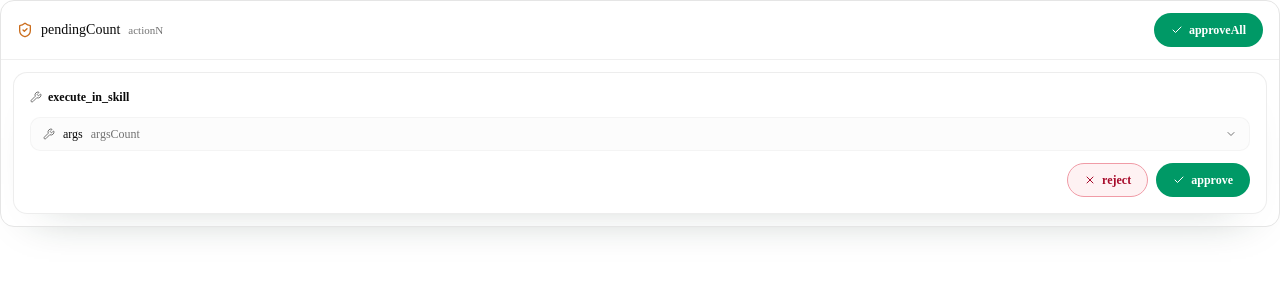
ApprovalCard › retries the full coordinator batch after the final grouped approval resume fails
Click the button with test id "approval-approve-all-button" at (1208, 30), box [1154, 13, 1263, 47]
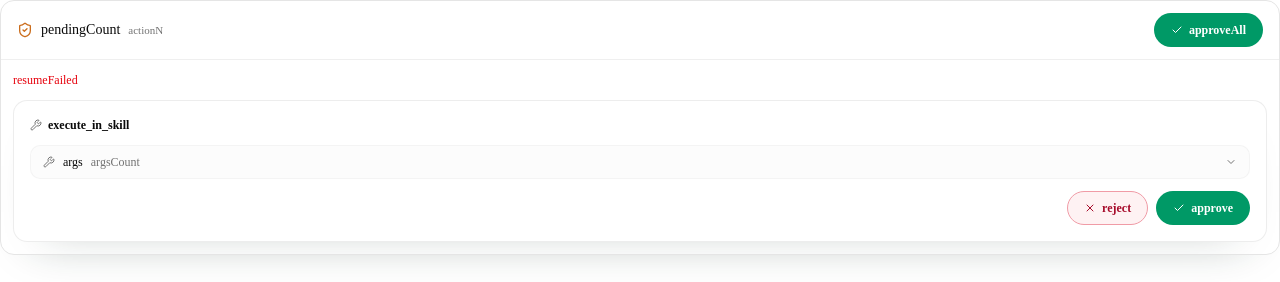
Expected: the text "pendingCount" is shown, [41, 20, 120, 40]
Now the message reads "resumeFailed", box [13, 73, 78, 87]
Click the button with test id "approval-approve-all-button" at (1208, 30), box [1154, 13, 1263, 47]
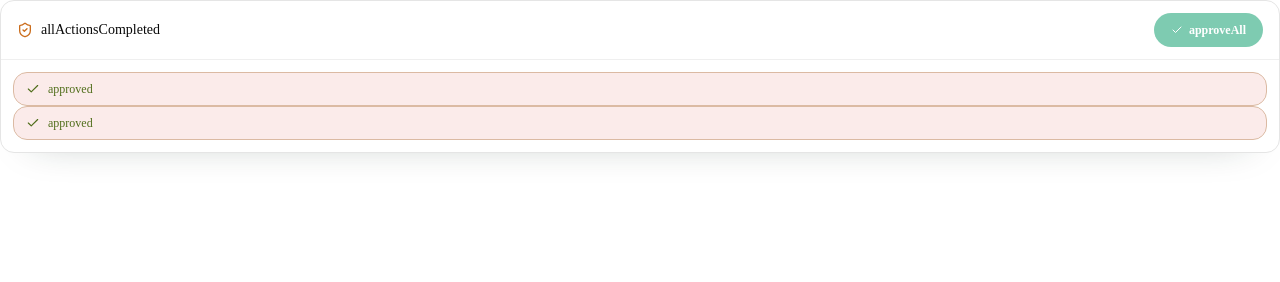
Now the text "allActionsCompleted" is shown, box [41, 20, 160, 40]
